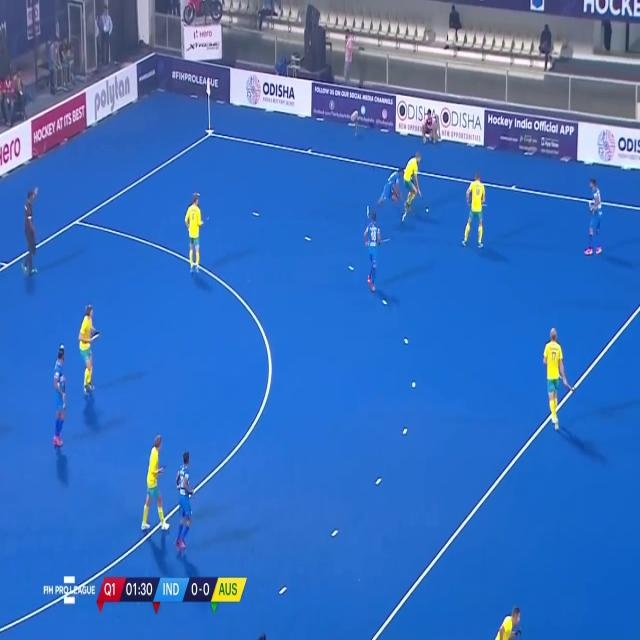ball: (424, 204, 431, 215)
